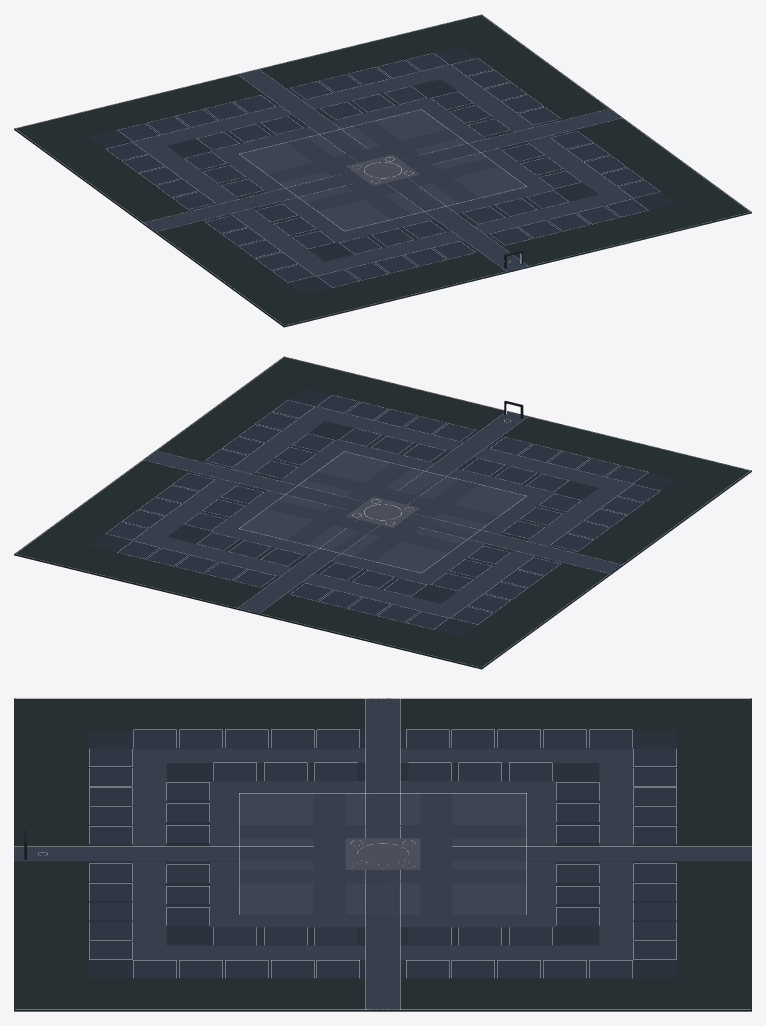
3 renders of one model, top to bottom at view 1: azimuth 30°, elevation 25°; view 2: azimuth 150°, elevation 25°; view 3: azimuth 270°, elevation 25°, orthographic. The views are drawn at different scales.
Visible parts, largest first — view 1: district_frontera.lod0; view 2: district_frontera.lod0; view 3: district_frontera.lod0.
Boxes of the visible parts, x1,y1,x2,y2 form: district_frontera.lod0: (14,14,751,327); district_frontera.lod0: (14,356,751,669); district_frontera.lod0: (14,698,751,1011).
Size of the model in its own units: 256 by 7.63 by 256.
